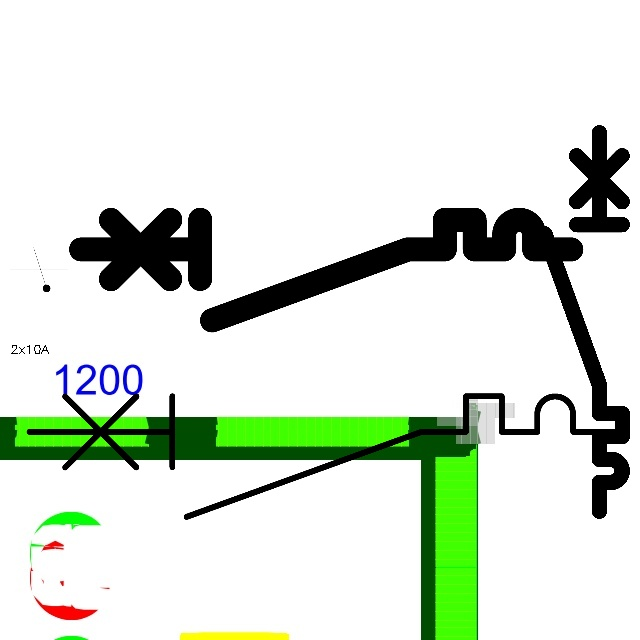interruptor_termomagnetico: (14, 381, 633, 532), (68, 207, 584, 333), (535, 123, 632, 521)
